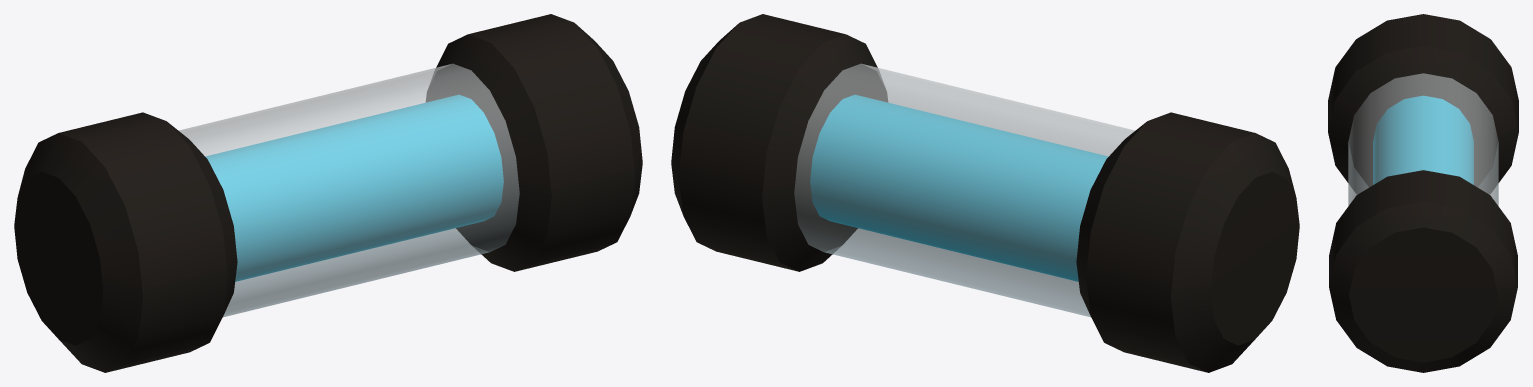
Rendered from AR9_Magazine.fbx.
The picture shows the model from 3 angles, left to right: view 1: azimuth 30°, elevation 25°; view 2: azimuth 150°, elevation 25°; view 3: azimuth 270°, elevation 25°; orthographic projection. The views are drawn at different scales.
Visible parts, largest first — view 1: AR9_Magazine; view 2: AR9_Magazine; view 3: AR9_Magazine.
Boxes of the visible parts, x1,y1,x2,y2 form: AR9_Magazine: [14, 14, 642, 372]; AR9_Magazine: [671, 14, 1299, 372]; AR9_Magazine: [1328, 14, 1518, 372].
Bounding box in the file's own units: 13.07 × 5.18 × 5.18.
